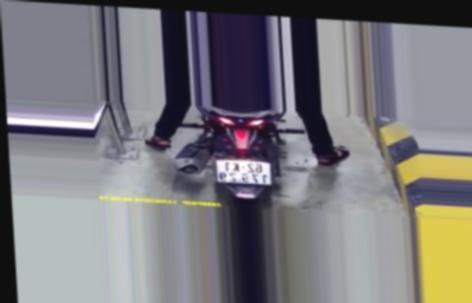License_Plate: (213, 155, 277, 190)
